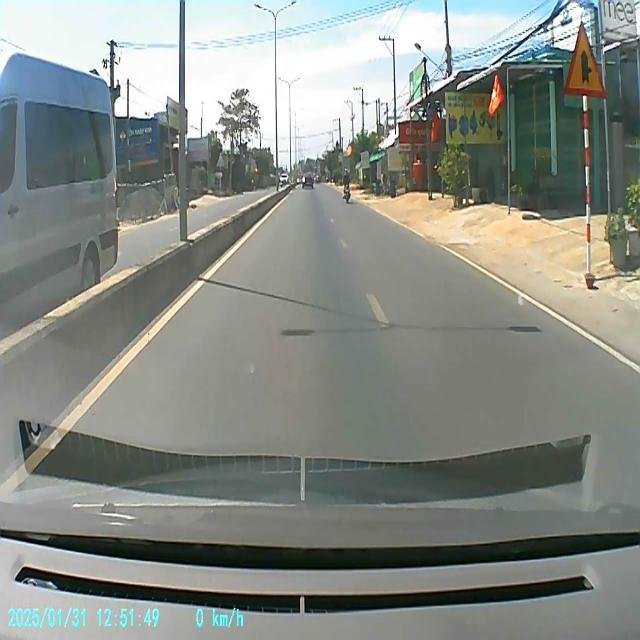207-giao-nhau-voi-duong-khong-uu-tien: (562, 17, 606, 99)
